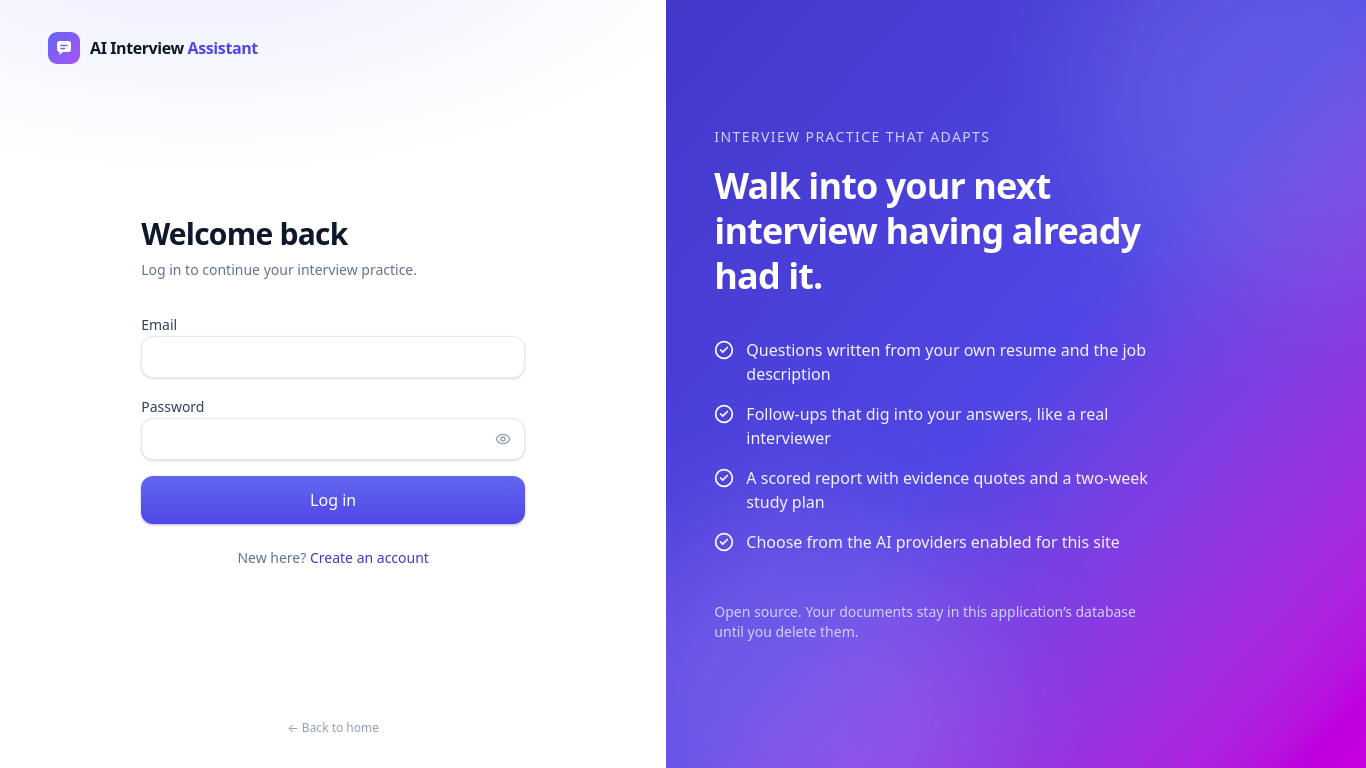
login › logs in and returns to the page the user wanted
The width and height of the screenshot is (1366, 768).
Type "ada@example.com" into the field labelled "Email".
click(333, 357); type("ada@example.com")  # box [141, 336, 525, 378]
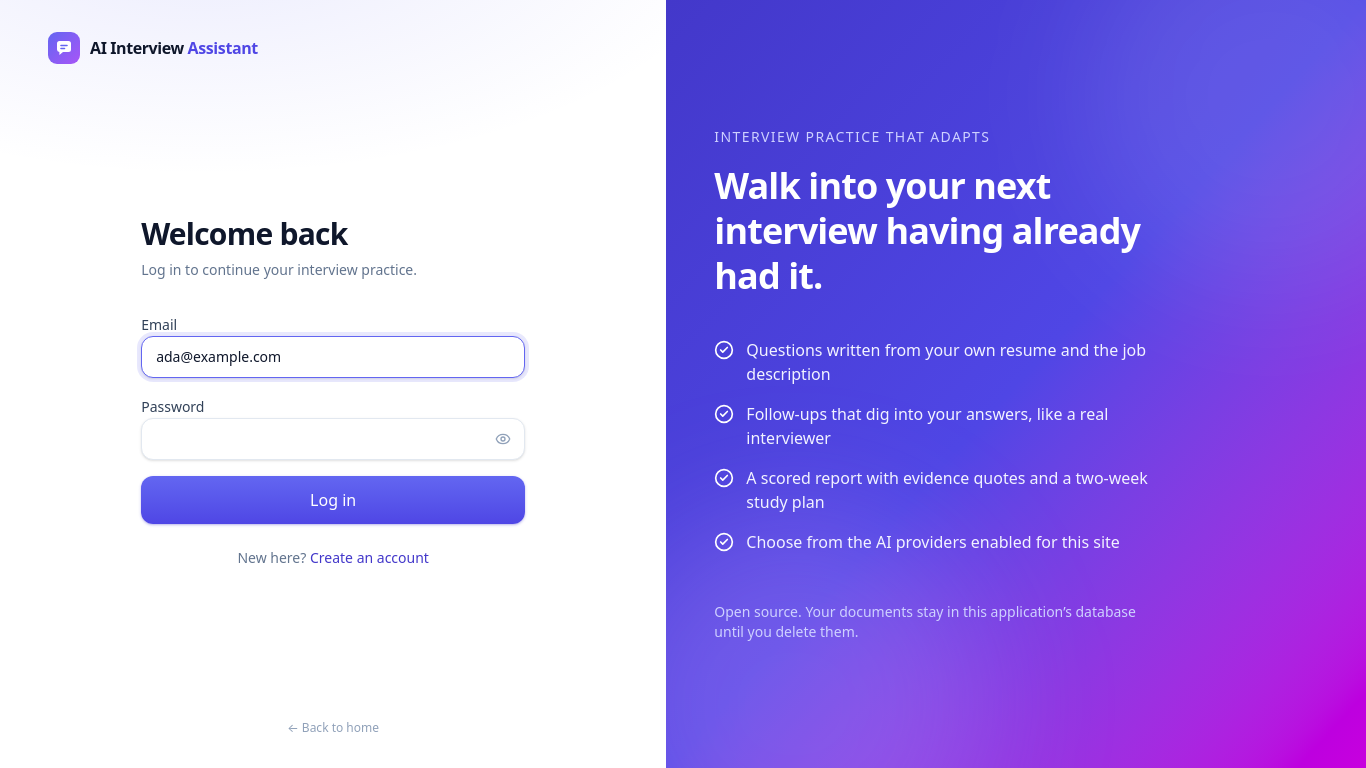
Type "a long password" into the password field labelled "Password".
click(333, 439); type("a long password")  # box [141, 418, 525, 460]
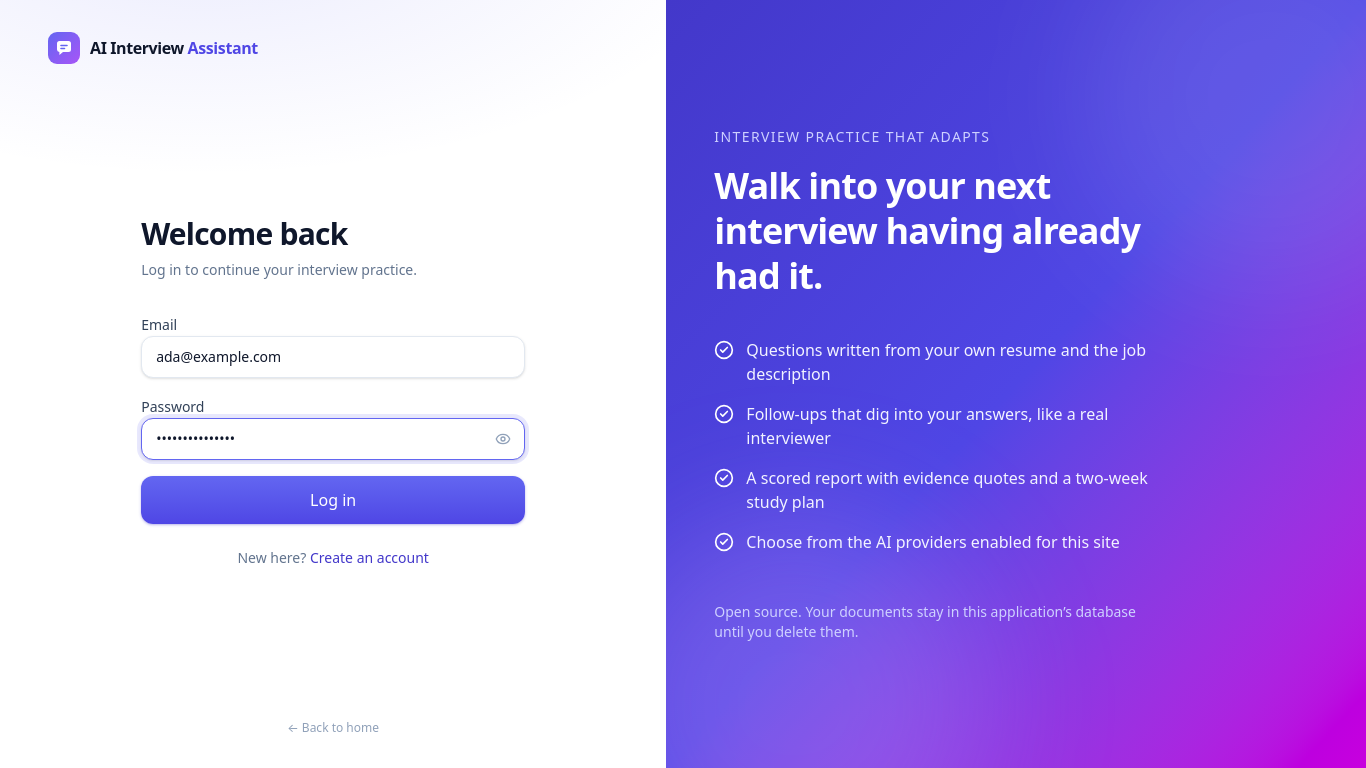
Click the button "Log in".
click(333, 500)  # box [141, 476, 525, 524]
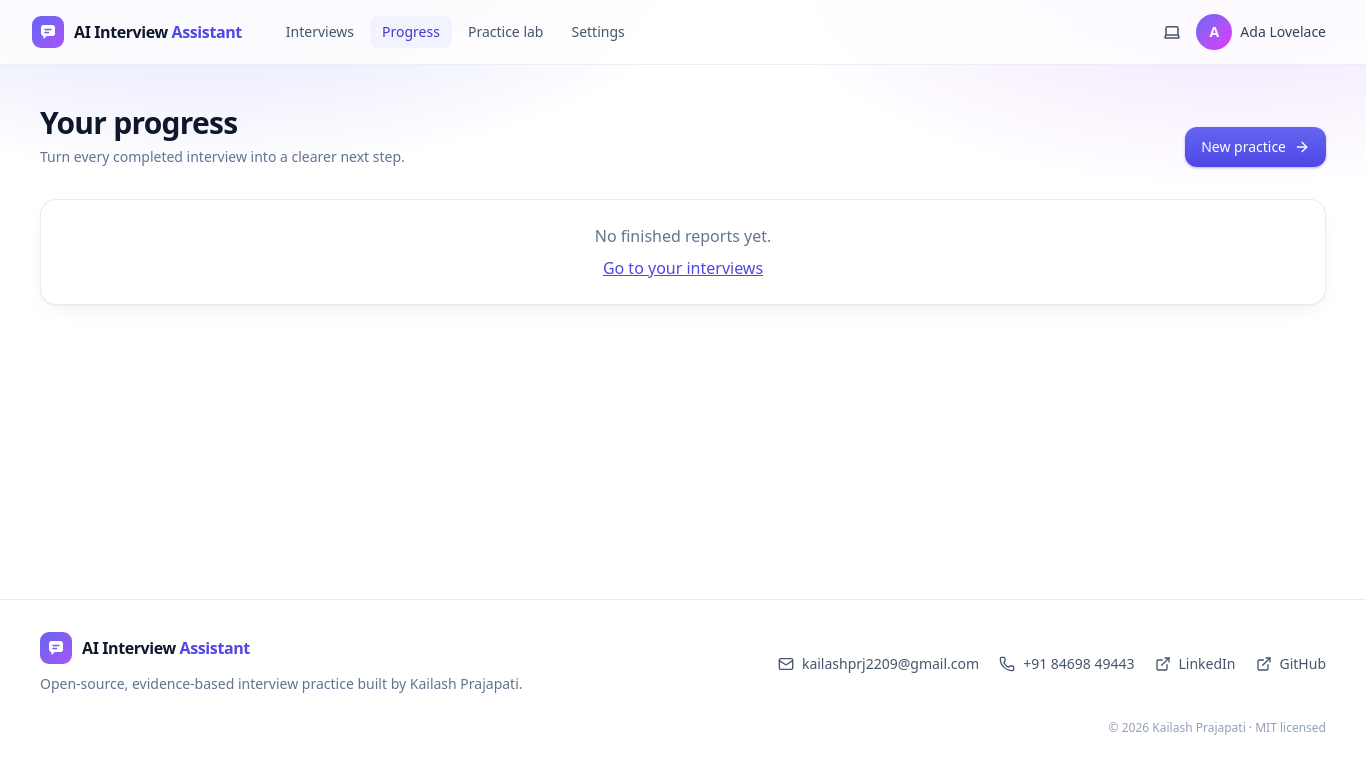
Now the heading "Your progress" is shown, box [40, 102, 237, 143]
